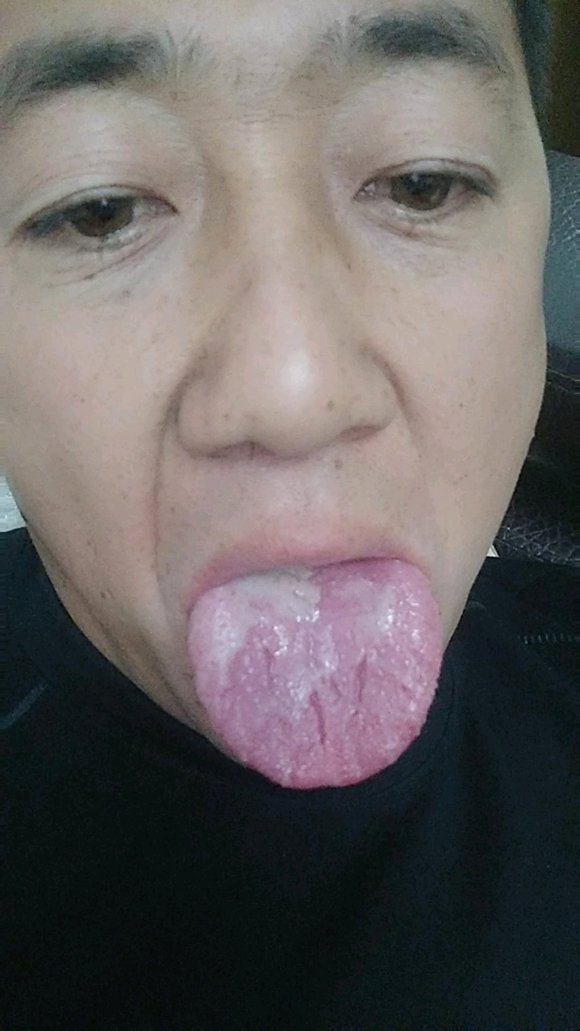botaishe: (301, 561, 408, 633)
huangtaishe: (188, 559, 443, 788)
liewenshe: (261, 646, 368, 748)
